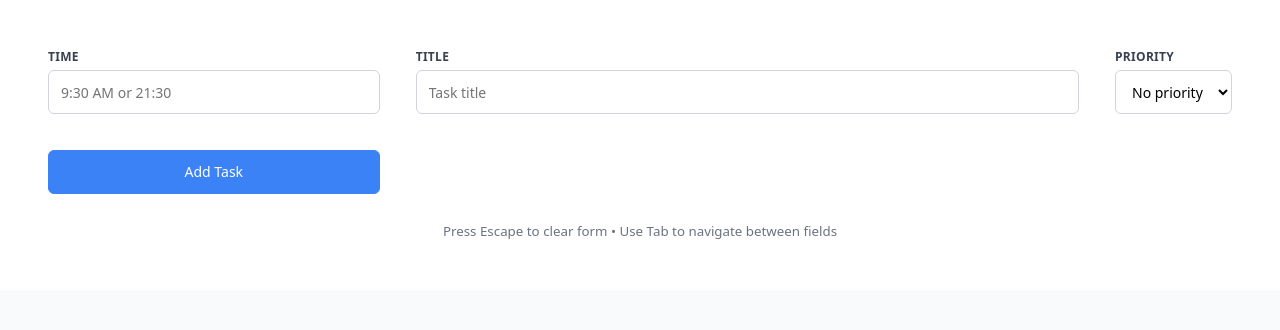
Test: AddTaskForm › Form Submission › prevents form submission when validation fails
Click the button with aria-label "Add task to your schedule". click: (214, 172)
box: left=48, top=150, right=380, bottom=194
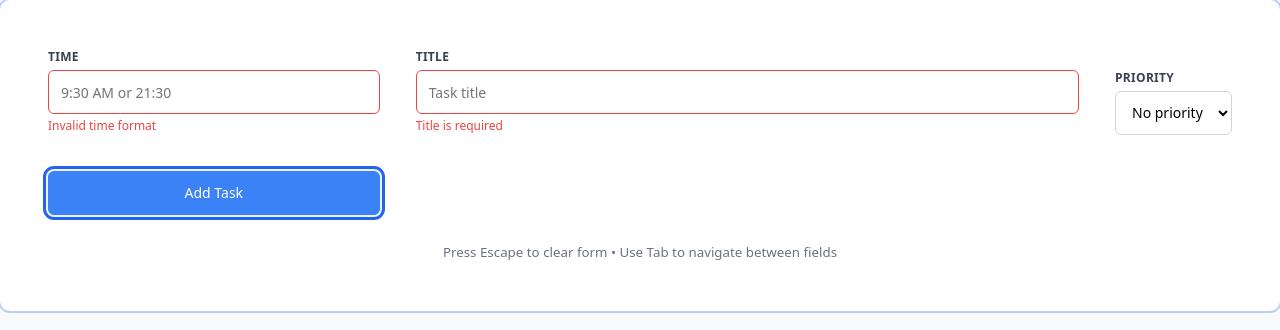
Expected: the text "Invalid time format" is shown, left=48, top=117, right=156, bottom=134
Expected: the text "Title is required" is shown, left=416, top=117, right=503, bottom=134
